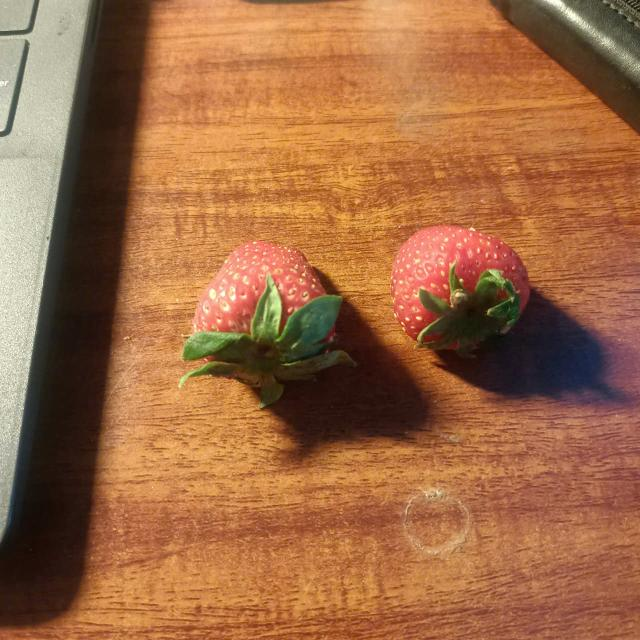DauTay: (177, 239, 342, 403), (378, 220, 534, 360)
